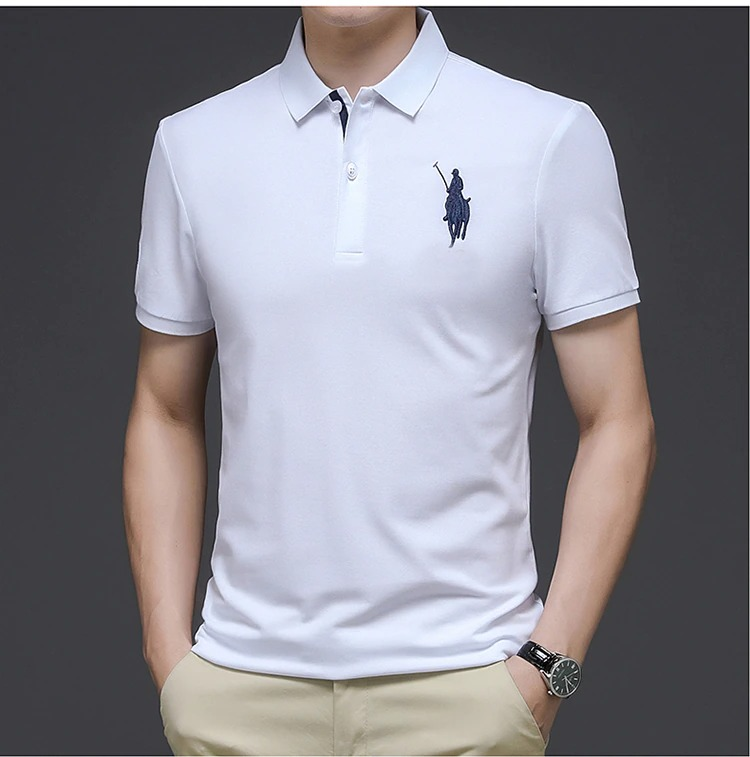polo shirt: (135, 25, 608, 679)
